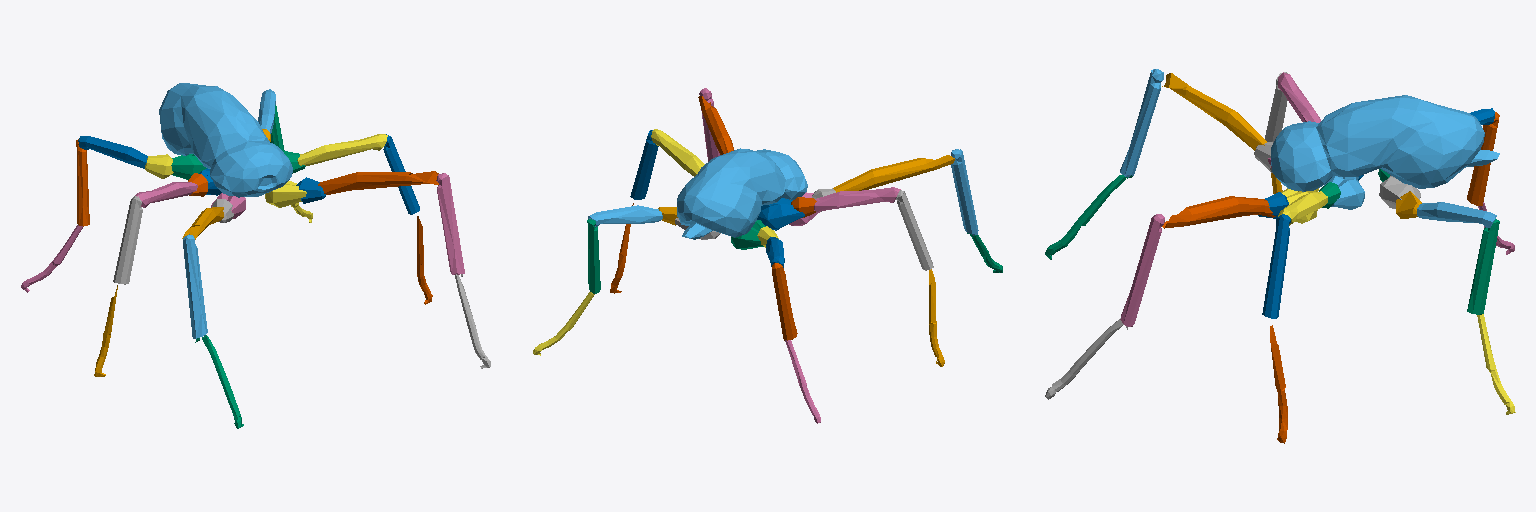
--- What the picture shows (computed from the rendered views, not written in the file) ---
Views: 3 orthographic renders of the robot side by side, from view 1: azimuth 30°, elevation 25°; view 2: azimuth 150°, elevation 25°; view 3: azimuth 270°, elevation 25°.
Robot: ant — 32 links, 31 joints (18 revolute, 13 fixed); root link base_link; default pose: every joint at zero.
Visible links, largest first — view 1: thorax, femur_r_r, tibia_r_l, tibia_r_r, tibia_m_l, femur_m_r, femur_f_l, tibia_f_l, femur_m_l, tibia_m_r, tarsus_r_l, tarsus_r_r (+8 smaller); view 2: thorax, femur_r_l, femur_m_l, tibia_r_l, femur_f_r, tibia_f_l, tibia_m_l, femur_m_r, cox_m_l, tibia_m_r, femur_r_r, tibia_f_r (+3 smaller); view 3: thorax, femur_r_r, femur_r_l, tibia_r_r, tibia_m_r, tibia_r_l, tibia_f_r, femur_f_r, tibia_f_l, tarsus_r_l, tarsus_m_r, tarsus_r_r (+6 smaller).
Boxes of the visible links, bbox=[...] form: thorax: bbox=[159, 83, 292, 197]; femur_r_r: bbox=[318, 171, 438, 194]; tibia_r_l: bbox=[183, 234, 207, 338]; tibia_r_r: bbox=[436, 173, 464, 274]; tibia_m_l: bbox=[113, 196, 142, 284]; femur_m_r: bbox=[297, 134, 387, 165]; femur_f_l: bbox=[78, 136, 147, 168]; tibia_f_l: bbox=[76, 139, 89, 226]; femur_m_l: bbox=[135, 182, 197, 207]; tibia_m_r: bbox=[383, 134, 419, 214]; tarsus_r_l: bbox=[195, 335, 243, 428]; tarsus_r_r: bbox=[455, 274, 490, 368]; thorax: bbox=[677, 148, 807, 239]; femur_r_l: bbox=[833, 155, 954, 192]; femur_m_l: bbox=[814, 187, 900, 211]; tibia_r_l: bbox=[951, 149, 978, 235]; femur_f_r: bbox=[588, 205, 662, 226]; tibia_f_l: bbox=[772, 263, 797, 340]; tibia_m_l: bbox=[896, 190, 933, 270]; femur_m_r: bbox=[651, 129, 704, 176]; cox_m_l: bbox=[757, 198, 804, 230]; tibia_m_r: bbox=[630, 130, 658, 199]; femur_r_r: bbox=[698, 96, 733, 154]; tibia_f_r: bbox=[587, 219, 600, 293]; thorax: bbox=[1271, 95, 1499, 191]; femur_r_r: bbox=[1162, 196, 1275, 228]; femur_r_l: bbox=[1162, 73, 1266, 150]; tibia_r_r: bbox=[1120, 214, 1164, 326]; tibia_m_r: bbox=[1262, 214, 1290, 318]; tibia_r_l: bbox=[1120, 69, 1163, 177]; tibia_f_r: bbox=[1467, 219, 1499, 314]; femur_f_r: bbox=[1417, 202, 1496, 227]; tibia_f_l: bbox=[1467, 112, 1499, 205]; tarsus_r_l: bbox=[1045, 175, 1132, 259]; tarsus_m_r: bbox=[1270, 325, 1287, 443]; tarsus_r_r: bbox=[1045, 318, 1127, 399].
Size in the robot's own frame: 18.33 by 19.05 by 11.12 metres.
31 mesh visuals loaded from 31 distinct referenced files (31 binary STL).

robot.urdf — ant:
<?xml version="1.0" encoding="utf-8"?>
<!-- =================================================================================== -->
<!-- |    This document was autogenerated by xacro from ant.xacro                      | -->
<!-- |    EDITING THIS FILE BY HAND IS NOT RECOMMENDED                                 | -->
<!-- =================================================================================== -->
<robot name="ant" xmlns:xacro="http://www.ros.org/wiki/xacro">
  <!-- rviz wont work with these xacros unless given as urdf

  <xacro:include filename="$(find ant_description)/urdf/ant_main_body.xacro"/>

  <xacro:include filename="$(find ant_description)/urdf/ant_leg_l_f.xacro" />

  <xacro:include filename="$(find ant_description)/urdf/ant_leg_r_f.xacro" /> -->
  <link name="base_link"/>
  <joint name="ant_attachment" type="fixed">
    <parent link="base_link"/>
    <child link="thorax"/>
    <origin rpy="0 0 0" xyz="0 0 0"/>
  </joint>
  <!-- thorax link -->
  <link name="thorax">
    <collision>
      <origin rpy="0 0 0" xyz="0.02495771 4.745264 0.9420236"/>
      <geometry>
        <mesh filename="package://ant_description/meshes/thorax.stl"/>
      </geometry>
    </collision>
    <visual>
      <origin rpy="0 0 0" xyz="0.02495771 4.745264 0.9420236"/>
      <geometry>
        <mesh filename="package://ant_description/meshes/thorax.stl"/>
      </geometry>
    </visual>
    <inertial>
      <origin rpy="0 0 0" xyz="-0.04847949 5.0895386 1.30014761"/>
      <mass value="40"/>
      <inertia ixx="2.1574865398e+02" ixy="-1.5499513134e-01" ixz="-4.3375096425e-02" iyy="5.3331719151e+01" iyz="-1.7571679462e+01" izz="2.2341557491e+02"/>
    </inertial>
  </link>
  <!-- cox front left link -->
  <link name="cox_f_l">
    <collision>
      <origin rpy="0 0 0" xyz="-0.5 0 0"/>
      <geometry>
        <mesh filename="package://ant_description/meshes/cox_f_l.stl"/>
      </geometry>
    </collision>
    <visual>
      <origin rpy="0 0 0" xyz="-0.5 0 0"/>
      <geometry>
        <mesh filename="package://ant_description/meshes/cox_f_l.stl"/>
      </geometry>
    </visual>
    <inertial>
      <origin rpy="0 0 0" xyz="-0.48765049  1.6566350000e-02 -1.5535011000e-01"/>
      <mass value="3"/>
      <inertia ixx="7.5768846297e-01" ixy="1.7005788603e-01" ixz="5.7852710942e-03" iyy="1.1727972097e+00" iyz="5.6909853774e-02" izz="1.2224152912e+00"/>
    </inertial>
  </link>
  <joint name="j_1_f_l" type="revolute">
    <parent link="thorax"/>
    <child link="cox_f_l"/>
    <origin rpy="0 0 0" xyz="-0.672313 5.942684 -0.2417362"/>
    <axis xyz="0 0 1"/>
    <limit effort="100" lower="-0.3" upper="0.6" velocity="5.6548668"/>
    <!-- <dynamics friction="5000"/> -->
  </joint>
  <!-- trochanter front left link -->
  <link name="trochanter_f_l">
    <collision>
      <origin rpy="0 0 0" xyz="-0.6 0 0"/>
      <geometry>
        <mesh filename="package://ant_description/meshes/trochanter_f_l.stl"/>
      </geometry>
    </collision>
    <visual>
      <origin rpy="0 0 0" xyz="-0.6 0 0"/>
      <geometry>
        <mesh filename="package://ant_description/meshes/trochanter_f_l.stl"/>
      </geometry>
    </visual>
    <inertial>
      <origin rpy="0 0 0" xyz="-0.77043483 -3.2823050000e-02  4.9396100000e-03"/>
      <mass value="1"/>
      <inertia ixx="1.1496440267e-01" ixy="3.4858491007e-02" ixz="1.4360769641e-03" iyy="1.4220481517e-01" iyz="-1.1846910889e-02" izz="1.5255737899e-01"/>
    </inertial>
  </link>
  <joint name="j_2_f_l" type="revolute">
    <parent link="cox_f_l"/>
    <child link="trochanter_f_l"/>
    <origin rpy="0 0 0" xyz="-1.265769 0.454099 0.0176258"/>
    <axis xyz="0 1 0"/>
    <limit effort="100" lower="0" upper="0.7" velocity="5.6548668"/>
    <!-- <dynamics friction="5000"/> -->
  </joint>
  <!-- femur front left link -->
  <link name="femur_f_l">
    <collision>
      <origin rpy="0 0 0" xyz="-1.949923 1.783526 0.32062271"/>
      <geometry>
        <mesh filename="package://ant_description/meshes/femur_f_l.stl"/>
      </geometry>
    </collision>
    <visual>
      <origin rpy="0 0 0" xyz="-1.949923 1.783526 0.32062271"/>
      <geometry>
        <mesh filename="package://ant_description/meshes/femur_f_l.stl"/>
      </geometry>
    </visual>
    <inertial>
      <origin rpy="0 0 0" xyz="-0.5579356 -1.0128977000e-01  2.5225760000e-02"/>
      <mass value="5"/>
      <inertia ixx="3.6197642457e+00" ixy="2.1775364163e+00" ixz="3.8242520797e-01" iyy="1.8778697845e+00" iyz="-5.2415364462e-01" izz="5.0117853596e+00"/>
    </inertial>
  </link>
  <joint name="trochanter_femur_f_l" type="fixed">
    <parent link="trochanter_f_l"/>
    <child link="femur_f_l"/>
  </joint>
  <!-- tibia front left link -->
  <link name="tibia_f_l">
    <collision>
      <origin rpy="0 0 -0.523599" xyz="0 0 -1.3"/>
      <geometry>
        <mesh filename="package://ant_description/meshes/tibia_f_l.stl"/>
      </geometry>
    </collision>
    <visual>
      <origin rpy="0 0 -0.523599" xyz="0 0 -1.3"/>
      <geometry>
        <mesh filename="package://ant_description/meshes/tibia_f_l.stl"/>
      </geometry>
    </visual>
    <inertial>
      <origin rpy="0 0 -0.523599" xyz="-3.7722210000e-02 -6.1037620000e-02 -1.79721931"/>
      <mass value="4"/>
      <inertia ixx="5.6769505167e+00" ixy="-9.1392209980e-02" ixz="-4.1384680225e-01" iyy="5.5128989027e+00" iyz="-9.6529489518e-01" izz="3.8081446228e-01"/>
    </inertial>
  </link>
  <joint name="j_3_f_l" type="revolute">
    <parent link="femur_f_l"/>
    <child link="tibia_f_l"/>
    <origin rpy="0 0 0.523599" xyz="-3.067233 2.99855 0.2249814"/>
    <limit effort="100" lower="0" upper="0.5" velocity="5.6548668"/>
    <!-- <dynamics friction="5000"/> -->
  </joint>
  <!-- tarsus front left link -->
  <link name="tarsus_f_l">
    <collision>
      <origin rpy="0 0 -0.523599" xyz="-1.164141 1.274724 -5.899937"/>
      <geometry>
        <mesh filename="package://ant_description/meshes/tarsus_f_l.stl"/>
      </geometry>
    </collision>
    <visual>
      <origin rpy="0 0 -0.523599" xyz="-1.164141 1.274724 -5.899937"/>
      <geometry>
        <mesh filename="package://ant_description/meshes/tarsus_f_l.stl"/>
      </geometry>
    </visual>
    <inertial>
      <origin rpy="0 0 -0.523599" xyz="0.197988 -0.332424 -0.92324425"/>
      <mass value="2"/>
      <inertia ixx="2.0383412574e+00" ixy="5.0790120060e-01" ixz="-1.2739759948e+00" iyy="2.7268712920e+00" iyz="6.6243787205e-01" izz="1.2557246830e+00"/>
    </inertial>
  </link>
  <joint name="tibia_tarsus_f_l" type="fixed">
    <parent link="tibia_f_l"/>
    <child link="tarsus_f_l"/>
  </joint>
  <!-- cox front right link -->
  <link name="cox_f_r">
    <collision>
      <origin rpy="0 0 0" xyz="0.5 0 0"/>
      <geometry>
        <mesh filename="package://ant_description/meshes/cox_f_r.stl"/>
      </geometry>
    </collision>
    <visual>
      <origin rpy="0 0 0" xyz="0.5 0 0"/>
      <geometry>
        <mesh filename="package://ant_description/meshes/cox_f_r.stl"/>
      </geometry>
    </visual>
    <inertial>
      <origin rpy="0 0 0" xyz="0.57905302  5.1128630000e-02 -1.3051884000e-01"/>
      <mass value="3"/>
      <inertia ixx="7.5656651420e-01" ixy="-1.6078972639e-01" ixz="2.2975131314e-02" iyy="1.1275039835e+00" iyz="5.7195192991e-02" izz="1.1844327222e+00"/>
    </inertial>
  </link>
  <joint name="j_1_f_r" type="revolute">
    <parent link="thorax"/>
    <child link="cox_f_r"/>
    <origin rpy="0 0 0" xyz="0.69727071 5.942684 -0.2417362"/>
    <axis xyz="0 0 1"/>
    <limit effort="100" lower="-0.6" upper="0.3" velocity="5.6548668"/>
    <!-- <dynamics friction="5000"/> -->
  </joint>
  <!-- trochanter front right link -->
  <link name="trochanter_f_r">
    <collision>
      <origin rpy="0 0 0" xyz="0.6 0 0"/>
      <geometry>
        <mesh filename="package://ant_description/meshes/trochanter_f_r.stl"/>
      </geometry>
    </collision>
    <visual>
      <origin rpy="0 0 0" xyz="0.6 0 0"/>
      <geometry>
        <mesh filename="package://ant_description/meshes/trochanter_f_r.stl"/>
      </geometry>
    </visual>
    <inertial>
      <origin rpy="0 0 0" xyz="0.538491 -5.1388720000e-02 -1.3824200000e-02"/>
      <mass value="1"/>
      <inertia ixx="1.0497057613e-01" ixy="-3.6631126790e-02" ixz="-3.9228430044e-03" iyy="1.4323023665e-01" iyz="-2.1808929210e-02" izz="1.5518180277e-01"/>
    </inertial>
  </link>
  <joint name="j_2_f_r" type="revolute">
    <parent link="cox_f_r"/>
    <child link="trochanter_f_r"/>
    <origin rpy="0 0 0" xyz="1.59727071 0.454099 0.0176258"/>
    <axis xyz="0 1 0"/>
    <limit effort="100" lower="-0.7" upper="0" velocity="5.6548668"/>
    <!-- <dynamics friction="5000"/> -->
  </joint>
  <!-- femur front right link -->
  <link name="femur_f_r">
    <collision>
      <origin rpy="0 0 0" xyz="1.949923 1.783526 0.32062271"/>
      <geometry>
        <mesh filename="package://ant_description/meshes/femur_f_r.stl"/>
      </geometry>
    </collision>
    <visual>
      <origin rpy="0 0 0" xyz="1.949923 1.783526 0.32062271"/>
      <geometry>
        <mesh filename="package://ant_description/meshes/femur_f_r.stl"/>
      </geometry>
    </visual>
    <inertial>
      <origin rpy="0 0 0" xyz="0.58560998 -5.2536510000e-02  3.3790940000e-02"/>
      <mass value="5"/>
      <inertia ixx="3.5605818097e+00" ixy="-2.1346250176e+00" ixz="-4.1254699156e-01" iyy="1.8632358937e+00" iyz="-5.6765821955e-01" izz="4.9254199566e+00"/>
    </inertial>
  </link>
  <joint name="trochanter_femur_f_r" type="fixed">
    <parent link="trochanter_f_r"/>
    <child link="femur_f_r"/>
  </joint>
  <!-- tibia front right link -->
  <link name="tibia_f_r">
    <collision>
      <origin rpy="0 0 0.523599" xyz="0 0 -1.3"/>
      <geometry>
        <mesh filename="package://ant_description/meshes/tibia_f_r.stl"/>
      </geometry>
    </collision>
    <visual>
      <origin rpy="0 0 0.523599" xyz="0 0 -1.3"/>
      <geometry>
        <mesh filename="package://ant_description/meshes/tibia_f_r.stl"/>
      </geometry>
    </visual>
    <inertial>
      <origin rpy="0 0 0.523599" xyz="4.1651520000e-02 -5.6355840000e-02 -1.77705898"/>
      <mass value="4"/>
      <inertia ixx="5.5697936408e+00" ixy="8.9994538190e-02" ixz="4.0634984476e-01" iyy="5.4089508408e+00" iyz="-9.4506940495e-01" izz="3.7695625536e-01"/>
    </inertial>
  </link>
  <joint name="j_3_f_r" type="revolute">
    <parent link="femur_f_r"/>
    <child link="tibia_f_r"/>
    <origin rpy="0 0 -0.523599" xyz="3.067233 2.99855 0.2249814"/>
    <axis xyz="1 0 0"/>
    <limit effort="100" lower="0" upper="0.5" velocity="5.6548668"/>
    <!-- <dynamics friction="5000"/> -->
  </joint>
  <!-- tarsus front right link -->
  <link name="tarsus_f_r">
    <collision>
      <origin rpy="0 0 0.523599" xyz="1.164141 1.274724 -5.899937"/>
      <geometry>
        <mesh filename="package://ant_description/meshes/tarsus_f_r.stl"/>
      </geometry>
    </collision>
    <visual>
      <origin rpy="0 0 0.523599" xyz="1.164141 1.274724 -5.899937"/>
      <geometry>
        <mesh filename="package://ant_description/meshes/tarsus_f_r.stl"/>
      </geometry>
    </visual>
    <inertial>
      <origin rpy="0 0 0.523599" xyz="-0.201113 -0.34006 -0.916733"/>
      <mass value="2"/>
      <inertia ixx="2.0264224199e+00" ixy="-5.0324785226e-01" ixz="1.2654551473e+00" iyy="2.7097661696e+00" iyz="6.5752556549e-01" izz="1.2447538164e+00"/>
    </inertial>
  </link>
  <joint name="tibia_tarsus_f_r" type="fixed">
    <parent link="tibia_f_r"/>
    <child link="tarsus_f_r"/>
  </joint>
  <!-- cox middle left link -->
  <link name="cox_m_l">
    <collision>
      <origin rpy="0 0 0" xyz="-0.5 0 0"/>
      <geometry>
        <mesh filename="package://ant_description/meshes/cox_m_l.stl"/>
      </geometry>
    </collision>
    <visual>
      <origin rpy="0 0 0" xyz="-0.5 0 0"/>
      <geometry>
        <mesh filename="package://ant_description/meshes/cox_m_l.stl"/>
      </geometry>
    </visual>
    <inertial>
      <origin rpy="0 0 0" xyz="-0.51716983  1.1915810000e-02 -1.3921484000e-01"/>
      <mass value="3"/>
      <inertia ixx="7.8260573866e-01" ixy="-1.9846590636e-01" ixz="-2.0231143554e-03" iyy="1.1383764760e+00" iyz="6.4265649619e-02" izz="1.2384929781e+00"/>
    </inertial>
  </link>
  <joint name="j_1_m_l" type="revolute">
    <parent link="thorax"/>
    <child link="cox_m_l"/>
    <origin rpy="0 0 0" xyz="-0.87320329 3.654325 -0.04402315"/>
    <axis xyz="0 0 1"/>
    <limit effort="100" lower="-0.5" upper="0.1" velocity="5.6548668"/>
    <!-- <dynamics friction="5000"/> -->
  </joint>
  <!-- trochanter middle left link -->
  <link name="trochanter_m_l">
    <collision>
      <origin rpy="0 0 0" xyz="-0.6 0 0"/>
      <geometry>
        <mesh filename="package://ant_description/meshes/trochanter_m_l.stl"/>
      </geometry>
    </collision>
    <visual>
      <origin rpy="0 0 0" xyz="-0.6 0 0"/>
      <geometry>
        <mesh filename="package://ant_description/meshes/trochanter_m_l.stl"/>
      </geometry>
    </visual>
    <inertial>
      <origin rpy="0 0 0" xyz="-0.55512966  1.4158560000e-02 -7.3947500000e-03"/>
      <mass value="1"/>
      <inertia ixx="1.1101995697e-01" ixy="-3.3613121204e-02" ixz="1.1913985257e-02" iyy="1.4858710622e-01" iyz="-4.0038853935e-03" izz="1.5366513364e-01"/>
    </inertial>
  </link>
  <joint name="j_2_m_l" type="revolute">
    <parent link="cox_m_l"/>
    <child link="trochanter_m_l"/>
    <origin rpy="0 0 0" xyz="-1.092786 -0.667436 0.15847855"/>
    <axis xyz="0 1 0"/>
    <limit effort="100" lower="0" upper="0.7" velocity="5.6548668"/>
    <!-- <dynamics friction="5000"/> -->
  </joint>
  <!-- femur middle left link -->
  <link name="femur_m_l">
    <collision>
      <origin rpy="0 0 0" xyz="-3.031796 -1.037177 0.5874824"/>
      <geometry>
        <mesh filename="package://ant_description/meshes/femur_m_l.stl"/>
      </geometry>
    </collision>
    <visual>
      <origin rpy="0 0 0" xyz="-3.031796 -1.037177 0.5874824"/>
      <geometry>
        <mesh filename="package://ant_description/meshes/femur_m_l.stl"/>
      </geometry>
    </visual>
    <inertial>
      <origin rpy="0 0 0" xyz="-0.28026106 1.1244939000e-01 -6.3924120000e-02"/>
      <mass value="5"/>
      <inertia ixx="1.5111447845e+00" ixy="-2.2827053904e+00" ixz="1.2224953298e+00" iyy="6.0794410410e+00" iyz="5.2271625542e-01" izz="6.7716874529e+00"/>
    </inertial>
  </link>
  <joint name="trochanter_femur_m_l" type="fixed">
    <parent link="trochanter_m_l"/>
    <child link="femur_m_l"/>
  </joint>
  <!-- tibia middle left link -->
  <link name="tibia_m_l">
    <collision>
      <origin rpy="0 0 -1.91986" xyz="0.136808 0.375877 -1.3"/>
      <geometry>
        <mesh filename="package://ant_description/meshes/tibia_m_l.stl"/>
      </geometry>
    </collision>
    <visual>
      <origin rpy="0 0 -1.91986" xyz="0.136808 0.375877 -1.3"/>
      <geometry>
        <mesh filename="package://ant_description/meshes/tibia_m_l.stl"/>
      </geometry>
    </visual>
    <inertial>
      <origin rpy="0 0 -1.91986" xyz="0.122652 0.593339 -1.79632004"/>
      <mass value="4"/>
      <inertia ixx="5.1136973632e+00" ixy="-2.1964789642e-01" ixz="-1.5570160091e+00" iyy="5.5119473180e+00" iyz="-7.4216810283e-01" izz="7.9706175728e-01"/>
    </inertial>
  </link>
  <joint name="j_3_m_l" type="revolute">
    <parent link="femur_m_l"/>
    <child link="tibia_m_l"/>
    <origin rpy="0 0 1.91986" xyz="-4.794432 -1.923477 0.8121009"/>
    <axis xyz="1 0 0"/>
    <limit effort="100" lower="0" upper="0.5" velocity="5.6548668"/>
    <!-- <dynamics friction="5000"/> -->
  </joint>
  <!-- tarsus middle left link TODO repair mesh and inertia -->
  <link name="tarsus_m_l">
    <collision>
      <origin rpy="0 0 -1.91986" xyz="0.556888 1.563018 -6.5016463"/>
      <geometry>
        <mesh filename="package://ant_description/meshes/tarsus_m_l.stl"/>
      </geometry>
    </collision>
    <visual>
      <origin rpy="0 0 -1.91986" xyz="0.556888 1.563018 -6.5016463"/>
      <geometry>
        <mesh filename="package://ant_description/meshes/tarsus_m_l.stl"/>
      </geometry>
    </visual>
    <!--<inertial>
      <origin xyz="0.197988 -0.332424 -0.92324425" rpy="0 0 -1.91986"/>
      <mass value="2"/>
      <inertia
        ixx="2.6814907591e+00" 
        ixy="3.5543530919e-02" 
        ixz="-4.3935904718e-01"
        iyy="2.7333997515e+00" 
        iyz="2.4487690192e-01"
        izz="1.3475215922e-01"/>
    </inertial> -->
  </link>
  <joint name="tibia_tarsus_m_l" type="fixed">
    <parent link="tibia_m_l"/>
    <child link="tarsus_m_l"/>
  </joint>
  <!-- cox middle right link -->
  <link name="cox_m_r">
    <collision>
      <origin rpy="0 0 0" xyz="0.5 0 0"/>
      <geometry>
        <mesh filename="package://ant_description/meshes/cox_m_r.stl"/>
      </geometry>
    </collision>
    <visual>
      <origin rpy="0 0 0" xyz="0.5 0 0"/>
      <geometry>
        <mesh filename="package://ant_description/meshes/cox_m_r.stl"/>
      </geometry>
    </visual>
    <inertial>
      <origin rpy="0 0 0" xyz="0.51717  1.1915810000e-02 -1.3921484000e-01"/>
      <mass value="3"/>
      <inertia ixx="7.8260573866e-01" ixy="1.9846590636e-01" ixz="2.0231143554e-03" iyy="1.1383764760e+00" iyz="6.4265649619e-02" izz="1.2384929781e+00"/>
    </inertial>
  </link>
  <joint name="j_1_m_r" type="revolute">
    <parent link="thorax"/>
    <child link="cox_m_r"/>
    <origin rpy="0 0 0" xyz="0.87320329 3.654325 -0.04402315"/>
    <axis xyz="0 0 1"/>
    <limit effort="100" lower="-0.1" upper="0.5" velocity="5.6548668"/>
    <!-- <dynamics friction="5000"/> -->
  </joint>
  <!-- trochanter middle right link -->
  <link name="trochanter_m_r">
    <collision>
      <origin rpy="0 0 0" xyz="0.6 0 0"/>
      <geometry>
        <mesh filename="package://ant_description/meshes/trochanter_m_r.stl"/>
      </geometry>
    </collision>
    <visual>
      <origin rpy="0 0 0" xyz="0.6 0 0"/>
      <geometry>
        <mesh filename="package://ant_description/meshes/trochanter_m_r.stl"/>
      </geometry>
    </visual>
    <inertial>
      <origin rpy="0 0 0" xyz="0.54487034  1.4158560000e-02 -7.3947500000e-03"/>
      <mass value="1"/>
      <inertia ixx="1.1102254555e-01" ixy="3.3611787480e-02" ixz="-1.1913985257e-02" iyy="1.4858710622e-01" iyz="-4.0038853935e-03" izz="1.5366513364e-01"/>
    </inertial>
  </link>
  <joint name="j_2_m_r" type="revolute">
    <parent link="cox_m_r"/>
    <child link="trochanter_m_r"/>
    <origin rpy="0 0 0" xyz="1.092786 -0.667436 0.15847855"/>
    <axis xyz="0 1 0"/>
    <limit effort="100" lower="-0.7" upper="0" velocity="5.6548668"/>
    <!-- <dynamics friction="5000"/> -->
  </joint>
  <!-- femur middle right link -->
  <link name="femur_m_r">
    <collision>
      <origin rpy="0 0 0" xyz="3.031796 -1.037177 0.5874824"/>
      <geometry>
        <mesh filename="package://ant_description/meshes/femur_m_r.stl"/>
      </geometry>
    </collision>
    <visual>
      <origin rpy="0 0 0" xyz="3.031796 -1.037177 0.5874824"/>
      <geometry>
        <mesh filename="package://ant_description/meshes/femur_m_r.stl"/>
      </geometry>
    </visual>
    <inertial>
      <origin rpy="0 0 0" xyz="0.28026106 1.1244939000e-01 -6.3924120000e-02"/>
      <mass value="5"/>
      <inertia ixx="1.5162198048e+00" ixy="2.2819992907e+00" ixz="-1.2230956433e+00" iyy="6.0647092751e+00" iyz="5.2541112821e-01" izz="6.7587161883e+00"/>
    </inertial>
  </link>
  <joint name="trochanter_femur_m_r" type="fixed">
    <parent link="trochanter_m_r"/>
    <child link="femur_m_r"/>
  </joint>
  <!-- tibia middle right link -->
  <link name="tibia_m_r">
    <collision>
      <origin rpy="0 0 1.91986" xyz="-0.136808 0.375877 -1.3"/>
      <geometry>
        <mesh filename="package://ant_description/meshes/tibia_m_r.stl"/>
      </geometry>
    </collision>
    <visual>
      <origin rpy="0 0 1.91986" xyz="-0.136808 0.375877 -1.3"/>
      <geometry>
        <mesh filename="package://ant_description/meshes/tibia_m_r.stl"/>
      </geometry>
    </visual>
    <inertial>
      <origin rpy="0 0 1.91986" xyz="-0.122652 0.593339 -1.79632004"/>
      <mass value="4"/>
      <inertia ixx="5.1136973632e+00" ixy="2.1964789642e-01" ixz="1.5570160091e+00" iyy="5.5119473180e+00" iyz="-7.4216810283e-01" izz="7.9706175728e-01"/>
    </inertial>
  </link>
  <joint name="j_3_m_r" type="revolute">
    <parent link="femur_m_r"/>
    <child link="tibia_m_r"/>
    <origin rpy="0 0 -1.91986" xyz="4.794432 -1.923477 0.8121009"/>
    <axis xyz="1 0 0"/>
    <limit effort="100" lower="0" upper="0.5" velocity="5.6548668"/>
    <!-- <dynamics friction="5000"/> -->
  </joint>
  <!-- tarsus middle rightt link TODO repair mesh and inertia -->
  <link name="tarsus_m_r">
    <collision>
      <origin rpy="0 0 1.91986" xyz="-0.556888 1.563018 -6.5016463"/>
      <geometry>
        <mesh filename="package://ant_description/meshes/tarsus_m_r.stl"/>
      </geometry>
    </collision>
    <visual>
      <origin rpy="0 0 1.91986" xyz="-0.556888 1.563018 -6.5016463"/>
      <geometry>
        <mesh filename="package://ant_description/meshes/tarsus_m_r.stl"/>
      </geometry>
    </visual>
    <!--<inertial>
      <origin xyz="0.197988 -0.332424 -0.92324425" rpy="0 0 -1.91986"/>
      <mass value="2"/>
      <inertia
        ixx="2.6814907591e+00" 
        ixy="3.5543530919e-02" 
        ixz="-4.3935904718e-01"
        iyy="2.7333997515e+00" 
        iyz="2.4487690192e-01"
        izz="1.3475215922e-01"/>
    </inertial> -->
  </link>
  <joint name="tibia_tarsus_m_r" type="fixed">
    <parent link="tibia_m_r"/>
    <child link="tarsus_m_r"/>
  </joint>
  <!-- cox rear left link -->
  <link name="cox_r_l">
    <collision>
      <origin rpy="0 0 0" xyz="-0.5 -0.5 0"/>
      <geometry>
        <mesh filename="package://ant_description/meshes/cox_r_l.stl"/>
      </geometry>
    </collision>
    <visual>
      <origin rpy="0 0 0" xyz="-0.5 -0.5 0"/>
      <geometry>
        <mesh filename="package://ant_description/meshes/cox_r_l.stl"/>
      </geometry>
    </visual>
    <inertial>
      <origin rpy="0 0 0" xyz="-0.54993608 -0.55808213 -1.8706305000e-01"/>
      <mass value="3"/>
      <inertia ixx="9.7279348468e-01" ixy="-2.4893216773e-01" ixz="-4.3977186027e-02" iyy="8.8979866554e-01" iyz="3.9916256869e-02" izz="1.1924646641e+00"/>
    </inertial>
  </link>
  <joint name="j_1_r_l" type="revolute">
    <parent link="thorax"/>
    <child link="cox_r_l"/>
    <origin rpy="0 0 0" xyz="-1.004655 2.310507 -0.4687623 "/>
    <axis xyz="0 0 1"/>
    <limit effort="100" lower="-0.3" upper="0.15" velocity="5.6548668"/>
    <!-- <dynamics friction="5000"/> -->
  </joint>
  <!-- trochanter rear left link -->
  <link name="trochanter_r_l">
    <collision>
      <origin rpy="0 0 0" xyz="-0.5 0 0"/>
      <geometry>
        <mesh filename="package://ant_description/meshes/trochanter_r_l.stl"/>
      </geometry>
    </collision>
    <visual>
      <origin rpy="0 0 0" xyz="-0.5 0 0"/>
      <geometry>
        <mesh filename="package://ant_description/meshes/trochanter_r_l.stl"/>
      </geometry>
    </visual>
    <inertial>
      <origin rpy="0 0 0" xyz="-0.42571826  1.0669486000e-01 -3.1070070000e-02"/>
      <mass value="1"/>
      <inertia ixx="1.5073148763e-01" ixy="-3.8447467658e-02" ixz="1.2660324006e-02" iyy="1.2943070910e-01" iyz="3.4239571588e-04" izz="1.6587704941e-01"/>
    </inertial>
  </link>
  <joint name="j_2_r_l" type="revolute">
    <parent link="cox_r_l"/>
    <child link="trochanter_r_l"/>
    <origin rpy="0 0 0" xyz="-0.955945 -1.6218341 0.1198297"/>
    <axis xyz="0 1 0"/>
    <limit effort="100" lower="0" upper="0.7" velocity="5.6548668"/>
    <!-- <dynamics friction="5000"/> -->
  </joint>
  <!-- femur rear left link -->
  <link name="femur_r_l">
    <collision>
      <origin rpy="0 0 0" xyz="-2.97037 -2.4887559 0.8584707"/>
      <geometry>
        <mesh filename="package://ant_description/meshes/femur_r_l.stl"/>
      </geometry>
    </collision>
    <visual>
      <origin rpy="0 0 0" xyz="-2.97037 -2.4887559 0.8584707"/>
      <geometry>
        <mesh filename="package://ant_description/meshes/femur_r_l.stl"/>
      </geometry>
    </visual>
    <inertial>
      <origin rpy="0 0 0" xyz="-0.04229401  5.9847164000e-01 -1.0237488000e-01"/>
      <mass value="5"/>
      <inertia ixx="6.5537052690e+00" ixy="-5.7615418246e+00" ixz="1.7949193563e+00" iyy="6.7640416562e+00" iyz="1.7889461762e+00" izz="1.1794042420e+01"/>
    </inertial>
  </link>
  <joint name="trochanter_femur_r_l" type="fixed">
    <parent link="trochanter_r_l"/>
    <child link="femur_r_l"/>
  </joint>
  <!-- tibia rear left link -->
  <link name="tibia_r_l">
    <collision>
      <origin rpy="0 0 -2.44346" xyz="0 0 -1.6"/>
      <geometry>
        <mesh filename="package://ant_description/meshes/tibia_r_l.stl"/>
      </geometry>
    </collision>
    <visual>
      <origin rpy="0 0 -2.44346" xyz="0 0 -1.6"/>
      <geometry>
        <mesh filename="package://ant_description/meshes/tibia_r_l.stl"/>
      </geometry>
    </visual>
    <inertial>
      <origin rpy="0 0 -2.44346" xyz="0.00756 0.24018 -1.90939386"/>
      <mass value="4"/>
      <inertia ixx="7.7173053799e+00" ixy="-5.2599828689e-02" ixz="-1.9881656369e-01" iyy="7.2343761778e+00" iyz="-1.9348606907e+00" izz="7.2286763244e-01"/>
    </inertial>
  </link>
  <joint name="j_3_r_l" type="revolute">
    <parent link="femur_r_l"/>
    <child link="tibia_r_l"/>
    <origin rpy="0 0 2.44346" xyz="-4.81788 -4.9756749 1.1238474"/>
    <axis xyz="1 0 0"/>
    <limit effort="100" lower="0" upper="0.5" velocity="5.6548668"/>
    <!-- <dynamics friction="5000"/> -->
  </joint>
  <!-- tarsus rear left link -->
  <link name="tarsus_r_l">
    <collision>
      <origin rpy="0 0 -2.44346" xyz="-1.452104 1.655428 -5.6634428"/>
      <geometry>
        <mesh filename="package://ant_description/meshes/tarsus_r_l.stl"/>
      </geometry>
    </collision>
    <visual>
      <origin rpy="0 0 -2.44346" xyz="-1.452104 1.655428 -5.6634428"/>
      <geometry>
        <mesh filename="package://ant_description/meshes/tarsus_r_l.stl"/>
      </geometry>
    </visual>
    <inertial>
      <origin rpy="0 0 -2.44346" xyz="5.2596670000e-02 -3.5839279000e-01 -1.60963057"/>
      <mass value="2"/>
      <inertia ixx="3.3858868805e+00" ixy="7.6075774747e-02" ixz="9.0168570414e-02" iyy="1.9667853495e+00" iyz="-1.6554334105e+00" izz="1.4653702460e+00"/>
    </inertial>
  </link>
  <joint name="tibia_tarsus_r_l" type="fixed">
    <parent link="tibia_r_l"/>
    <child link="tarsus_r_l"/>
  </joint>
  <!-- cox rear right link -->
  <link name="cox_r_r">
    <collision>
      <origin rpy="0 0 0" xyz="0.5 -0.5 0"/>
      <geometry>
        <mesh filename="package://ant_description/meshes/cox_r_r.stl"/>
      </geometry>
    </collision>
    <visual>
      <origin rpy="0 0 0" xyz="0.5 -0.5 0"/>
      <geometry>
        <mesh filename="package://ant_description/meshes/cox_r_r.stl"/>
      </geometry>
    </visual>
    <inertial>
      <origin rpy="0 0 0" xyz="0.5558994 -0.58611938 -1.8706305000e-01"/>
      <mass value="3"/>
      <inertia ixx="9.7229680289e-01" ixy="2.5368497826e-01" ixz="4.4356865489e-02" iyy="8.9010367126e-01" iyz="3.1340777388e-02" izz="1.2001971705e+00"/>
    </inertial>
  </link>
  <joint name="j_1_r_r" type="revolute">
    <parent link="thorax"/>
    <child link="cox_r_r"/>
    <origin rpy="0 0 0" xyz="0.996461 2.346683 -0.5018439"/>
    <axis xyz="0 0 1"/>
    <limit effort="100" lower="-0.15" upper="0.3" velocity="5.6548668"/>
    <!-- <dynamics friction="5000"/> -->
  </joint>
  <!-- trochanter rear right link -->
  <link name="trochanter_r_r">
    <collision>
      <origin rpy="0 0 0" xyz="0.5 0 0"/>
      <geometry>
        <mesh filename="package://ant_description/meshes/trochanter_r_r.stl"/>
      </geometry>
    </collision>
    <visual>
      <origin rpy="0 0 0" xyz="0.5 0 0"/>
      <geometry>
        <mesh filename="package://ant_description/meshes/trochanter_r_r.stl"/>
      </geometry>
    </visual>
    <inertial>
      <origin rpy="0 0 0" xyz="0.42571826  1.0669486000e-01 -3.1070070000e-02"/>
      <mass value="1"/>
      <inertia ixx="1.5073148763e-01" ixy="3.8447467658e-02" ixz="-1.2660324006e-02" iyy="1.2943070910e-01" iyz="3.4239571588e-04" izz="1.6587704941e-01"/>
    </inertial>
  </link>
  <joint name="j_2_r_r" type="revolute">
    <parent link="cox_r_r"/>
    <child link="trochanter_r_r"/>
    <origin rpy="0 0 0" xyz="0.955945 -1.6218341 0.1198297"/>
    <axis xyz="0 1 0"/>
    <limit effort="100" lower="-0.7" upper="0" velocity="5.6548668"/>
    <!-- <dynamics friction="5000"/> -->
  </joint>
  <!-- femur rear right link -->
  <link name="femur_r_r">
    <collision>
      <origin rpy="0 0 0" xyz="2.97037 -2.4887559 0.8584707"/>
      <geometry>
        <mesh filename="package://ant_description/meshes/femur_r_r.stl"/>
      </geometry>
    </collision>
    <visual>
      <origin rpy="0 0 0" xyz="2.97037 -2.4887559 0.8584707"/>
      <geometry>
        <mesh filename="package://ant_description/meshes/femur_r_r.stl"/>
      </geometry>
    </visual>
    <inertial>
      <origin rpy="0 0 0" xyz="0.04229401  5.9847164000e-01 -1.0237488000e-01"/>
      <mass value="5"/>
      <inertia ixx="6.5537052690e+00" ixy="5.7615418246e+00" ixz="-1.7949193563e+00" iyy="6.7640416562e+00" iyz="1.7889461762e+00" izz="1.1794042420e+01"/>
    </inertial>
  </link>
  <joint name="trochanter_femur_r_r" type="fixed">
    <parent link="trochanter_r_r"/>
    <child link="femur_r_r"/>
  </joint>
  <!-- tibia rear right link -->
  <link name="tibia_r_r">
    <collision>
      <origin rpy="0 0 2.44346" xyz="0 0 -1.6"/>
      <geometry>
        <mesh filename="package://ant_description/meshes/tibia_r_r.stl"/>
      </geometry>
    </collision>
    <visual>
      <origin rpy="0 0 2.44346" xyz="0 0 -1.6"/>
      <geometry>
        <mesh filename="package://ant_description/meshes/tibia_r_r.stl"/>
      </geometry>
    </visual>
    <inertial>
      <origin rpy="0 0 2.44346" xyz="-0.00756 0.24018 -1.90939386"/>
      <mass value="4"/>
      <inertia ixx="7.7173053799e+00" ixy="5.2599828689e-02" ixz="1.9881656369e-01" iyy="7.2343761778e+00" iyz="-1.9348606907e+00" izz="7.2286763244e-01"/>
    </inertial>
  </link>
  <joint name="j_3_r_r" type="revolute">
    <parent link="femur_r_r"/>
    <child link="tibia_r_r"/>
    <origin rpy="0 0 -2.44346" xyz="4.81788 -4.9756749 1.1238474"/>
    <axis xyz="1 0 0"/>
    <limit effort="100" lower="0" upper="0.5" velocity="5.6548668"/>
    <!-- <dynamics friction="5000"/> -->
  </joint>
  <!-- tarsus rear right link -->
  <link name="tarsus_r_r">
    <collision>
      <origin rpy="0 0 2.44346" xyz="1.452104 1.655428 -5.6634428"/>
      <geometry>
        <mesh filename="package://ant_description/meshes/tarsus_r_r.stl"/>
      </geometry>
    </collision>
    <visual>
      <origin rpy="0 0 2.44346" xyz="1.452104 1.655428 -5.6634428"/>
      <geometry>
        <mesh filename="package://ant_description/meshes/tarsus_r_r.stl"/>
      </geometry>
    </visual>
    <inertial>
      <origin rpy="0 0 2.44346" xyz="-5.2596670000e-02 -3.5839279000e-01 -1.60963057"/>
      <mass value="2"/>
      <inertia ixx="3.3858868805e+00" ixy="7.6075774747e-02" ixz="9.0168570414e-02" iyy="1.9667853495e+00" iyz="-1.6554334105e+00" izz="1.4653702460e+00"/>
    </inertial>
  </link>
  <joint name="tibia_tarsus_r_r" type="fixed">
    <parent link="tibia_r_r"/>
    <child link="tarsus_r_r"/>
  </joint>
  <transmission name="transm_f_l_1">
    <type>transmission_interface/SimpleTransmission</type>
    <joint name="j_1_f_l">
      <hardwareInterface>EffortJointInterface</hardwareInterface>
    </joint>
    <actuator name="m_f_l_1">
      <hardwareInterface>EffortJointInterface</hardwareInterface>
      <mechanicalReduction>1</mechanicalReduction>
    </actuator>
  </transmission>
  <transmission name="transm_f_l_2">
    <type>transmission_interface/SimpleTransmission</type>
    <joint name="j_2_f_l">
      <hardwareInterface>EffortJointInterface</hardwareInterface>
    </joint>
    <actuator name="m_f_l_2">
      <hardwareInterface>EffortJointInterface</hardwareInterface>
      <mechanicalReduction>1</mechanicalReduction>
    </actuator>
  </transmission>
  <transmission name="transm_f_l_3">
    <type>transmission_interface/SimpleTransmission</type>
    <joint name="j_3_f_l">
      <hardwareInterface>EffortJointInterface</hardwareInterface>
    </joint>
    <actuator name="m_f_l_3">
      <hardwareInterface>EffortJointInterface</hardwareInterface>
      <mechanicalReduction>1</mechanicalReduction>
    </actuator>
  </transmission>
  <transmission name="transm_f_r_1">
    <type>transmission_interface/SimpleTransmission</type>
    <joint name="j_1_f_r">
      <hardwareInterface>EffortJointInterface</hardwareInterface>
    </joint>
    <actuator name="m_f_r_1">
      <hardwareInterface>EffortJointInterface</hardwareInterface>
      <mechanicalReduction>1</mechanicalReduction>
    </actuator>
  </transmission>
  <transmission name="transm_f_r_2">
    <type>transmission_interface/SimpleTransmission</type>
    <joint name="j_2_f_r">
      <hardwareInterface>EffortJointInterface</hardwareInterface>
    </joint>
    <actuator name="m_f_r_2">
      <hardwareInterface>EffortJointInterface</hardwareInterface>
      <mechanicalReduction>1</mechanicalReduction>
    </actuator>
  </transmission>
  <transmission name="transm_f_r_3">
    <type>transmission_interface/SimpleTransmission</type>
    <joint name="j_3_f_r">
      <hardwareInterface>EffortJointInterface</hardwareInterface>
    </joint>
    <actuator name="m_f_r_3">
      <hardwareInterface>EffortJointInterface</hardwareInterface>
      <mechanicalReduction>1</mechanicalReduction>
    </actuator>
  </transmission>
  <transmission name="transm_m_l_1">
    <type>transmission_interface/SimpleTransmission</type>
    <joint name="j_1_m_l">
      <hardwareInterface>EffortJointInterface</hardwareInterface>
    </joint>
    <actuator name="m_m_l_1">
      <hardwareInterface>EffortJointInterface</hardwareInterface>
      <mechanicalReduction>1</mechanicalReduction>
    </actuator>
  </transmission>
  <transmission name="transm_m_l_2">
    <type>transmission_interface/SimpleTransmission</type>
    <joint name="j_2_m_l">
      <hardwareInterface>EffortJointInterface</hardwareInterface>
    </joint>
    <actuator name="m_m_l_2">
      <hardwareInterface>EffortJointInterface</hardwareInterface>
      <mechanicalReduction>1</mechanicalReduction>
    </actuator>
  </transmission>
  <transmission name="transm_m_l_3">
    <type>transmission_interface/SimpleTransmission</type>
    <joint name="j_3_m_l">
      <hardwareInterface>EffortJointInterface</hardwareInterface>
    </joint>
    <actuator name="m_m_l_3">
      <hardwareInterface>EffortJointInterface</hardwareInterface>
      <mechanicalReduction>1</mechanicalReduction>
    </actuator>
  </transmission>
  <transmission name="transm_m_r_1">
    <type>transmission_interface/SimpleTransmission</type>
    <joint name="j_1_m_r">
      <hardwareInterface>EffortJointInterface</hardwareInterface>
    </joint>
    <actuator name="m_m_l_r">
      <hardwareInterface>EffortJointInterface</hardwareInterface>
      <mechanicalReduction>1</mechanicalReduction>
    </actuator>
  </transmission>
  <transmission name="transm_m_r_2">
    <type>transmission_interface/SimpleTransmission</type>
    <joint name="j_2_m_r">
      <hardwareInterface>EffortJointInterface</hardwareInterface>
    </joint>
    <actuator name="m_m_r_2">
      <hardwareInterface>EffortJointInterface</hardwareInterface>
      <mechanicalReduction>1</mechanicalReduction>
    </actuator>
  </transmission>
  <transmission name="transm_m_r_3">
    <type>transmission_interface/SimpleTransmission</type>
    <joint name="j_3_m_r">
      <hardwareInterface>EffortJointInterface</hardwareInterface>
    </joint>
    <actuator name="m_m_r_3">
      <hardwareInterface>EffortJointInterface</hardwareInterface>
      <mechanicalReduction>1</mechanicalReduction>
    </actuator>
  </transmission>
  <transmission name="transm_r_l_1">
    <type>transmission_interface/SimpleTransmission</type>
    <joint name="j_1_r_l">
      <hardwareInterface>EffortJointInterface</hardwareInterface>
    </joint>
    <actuator name="m_r_l_1">
      <hardwareInterface>EffortJointInterface</hardwareInterface>
      <mechanicalReduction>1</mechanicalReduction>
    </actuator>
  </transmission>
  <transmission name="transm_r_l_2">
    <type>transmission_interface/SimpleTransmission</type>
    <joint name="j_2_r_l">
      <hardwareInterface>EffortJointInterface</hardwareInterface>
    </joint>
    <actuator name="m_r_l_2">
      <hardwareInterface>EffortJointInterface</hardwareInterface>
      <mechanicalReduction>1</mechanicalReduction>
    </actuator>
  </transmission>
  <transmission name="transm_r_l_3">
    <type>transmission_interface/SimpleTransmission</type>
    <joint name="j_3_r_l">
      <hardwareInterface>EffortJointInterface</hardwareInterface>
    </joint>
    <actuator name="m_r_l_3">
      <hardwareInterface>EffortJointInterface</hardwareInterface>
      <mechanicalReduction>1</mechanicalReduction>
    </actuator>
  </transmission>
  <transmission name="transm_r_r_1">
    <type>transmission_interface/SimpleTransmission</type>
    <joint name="j_1_r_r">
      <hardwareInterface>EffortJointInterface</hardwareInterface>
    </joint>
    <actuator name="m_r_r_1">
      <hardwareInterface>EffortJointInterface</hardwareInterface>
      <mechanicalReduction>1</mechanicalReduction>
    </actuator>
  </transmission>
  <transmission name="transm_r_r_2">
    <type>transmission_interface/SimpleTransmission</type>
    <joint name="j_2_r_r">
      <hardwareInterface>EffortJointInterface</hardwareInterface>
    </joint>
    <actuator name="m_r_r_2">
      <hardwareInterface>EffortJointInterface</hardwareInterface>
      <mechanicalReduction>1</mechanicalReduction>
    </actuator>
  </transmission>
  <transmission name="transm_r_r_3">
    <type>transmission_interface/SimpleTransmission</type>
    <joint name="j_3_r_r">
      <hardwareInterface>EffortJointInterface</hardwareInterface>
    </joint>
    <actuator name="m_r_r_3">
      <hardwareInterface>EffortJointInterface</hardwareInterface>
      <mechanicalReduction>1</mechanicalReduction>
    </actuator>
  </transmission>
  <!--<gazebo reference="gaster">    
    <material>Gazebo/Blue</material>
  </gazebo> -->
  <material name="black">
    <color rgba="0.0 0.0 0.0 1.0"/>
  </material>
  <material name="grey">
    <color rgba="0.2 0.2 0.2 1.0"/>
  </material>
  <material name="brown">
    <color rgba="0.870588235294 0.811764705882 0.764705882353 1.0"/>
  </material>
  <gazebo>
    <plugin filename="libgazebo_ros_control.so" name="gazebo_ros_control">
      <robotNamespace>/ant</robotNamespace>
    </plugin>
  </gazebo>
</robot>
